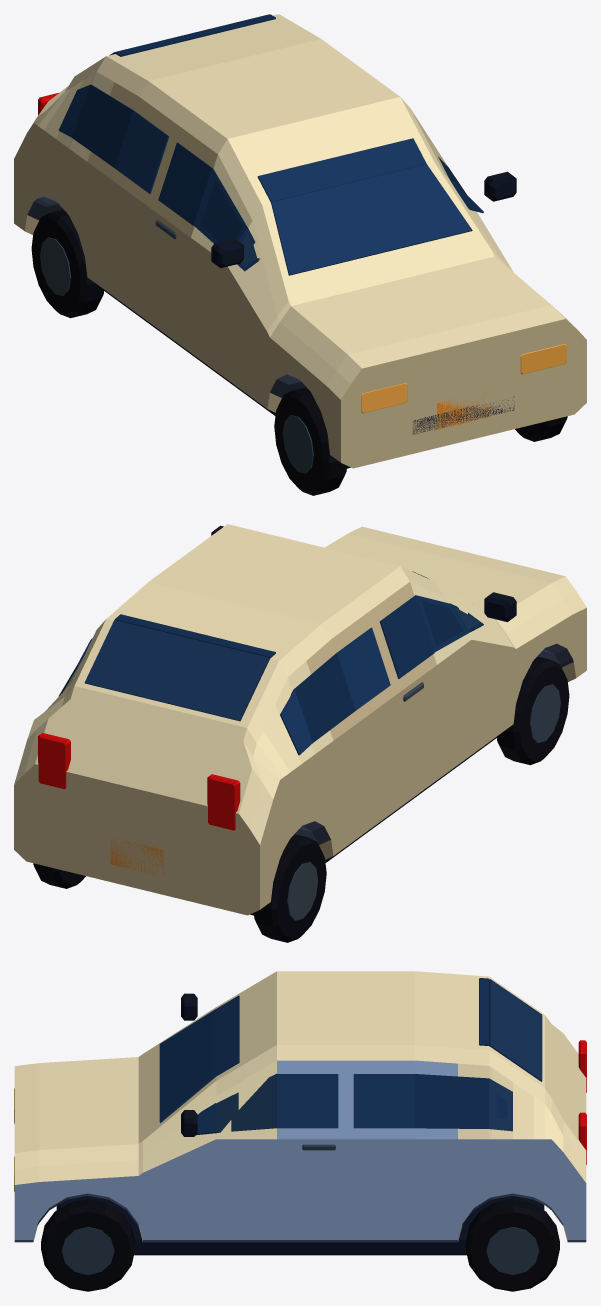
The model's file is HK_Kei_Hatch.fbx.
The picture shows the model from 3 angles, top to bottom: view 1: azimuth 30°, elevation 25°; view 2: azimuth 150°, elevation 25°; view 3: azimuth 270°, elevation 25°; orthographic projection. The views are drawn at different scales.
Visible parts, largest first — view 1: HK_Kei_Hatch_BodyMain, HK_Kei_Hatch_Glass, HK_Kei_Hatch_Tire_FR, HK_Kei_Hatch_Tire_RR, HK_Kei_Hatch_Tire_FL; view 2: HK_Kei_Hatch_BodyMain, HK_Kei_Hatch_Glass, HK_Kei_Hatch_Tire_RR, HK_Kei_Hatch_Tire_FR, HK_Kei_Hatch_Tire_RL; view 3: HK_Kei_Hatch_BodyMain, HK_Kei_Hatch_Glass, HK_Kei_Hatch_Tire_FL, HK_Kei_Hatch_Tire_RL.
Boxes of the visible parts, bbox=[...] form: HK_Kei_Hatch_BodyMain: bbox=[14, 14, 586, 468]; HK_Kei_Hatch_Glass: bbox=[58, 14, 483, 275]; HK_Kei_Hatch_Tire_FR: bbox=[274, 387, 347, 495]; HK_Kei_Hatch_Tire_RR: bbox=[31, 209, 104, 318]; HK_Kei_Hatch_Tire_FL: bbox=[515, 416, 567, 441]; HK_Kei_Hatch_BodyMain: bbox=[14, 524, 586, 915]; HK_Kei_Hatch_Glass: bbox=[58, 571, 483, 755]; HK_Kei_Hatch_Tire_RR: bbox=[253, 834, 326, 942]; HK_Kei_Hatch_Tire_FR: bbox=[496, 656, 569, 765]; HK_Kei_Hatch_Tire_RL: bbox=[33, 863, 85, 888]; HK_Kei_Hatch_BodyMain: bbox=[14, 971, 586, 1255]; HK_Kei_Hatch_Glass: bbox=[159, 978, 542, 1135]; HK_Kei_Hatch_Tire_FL: bbox=[41, 1199, 135, 1291]; HK_Kei_Hatch_Tire_RL: bbox=[465, 1199, 559, 1291].
Bounding box in the file's own units: 1.79 × 1.52 × 3.4.
